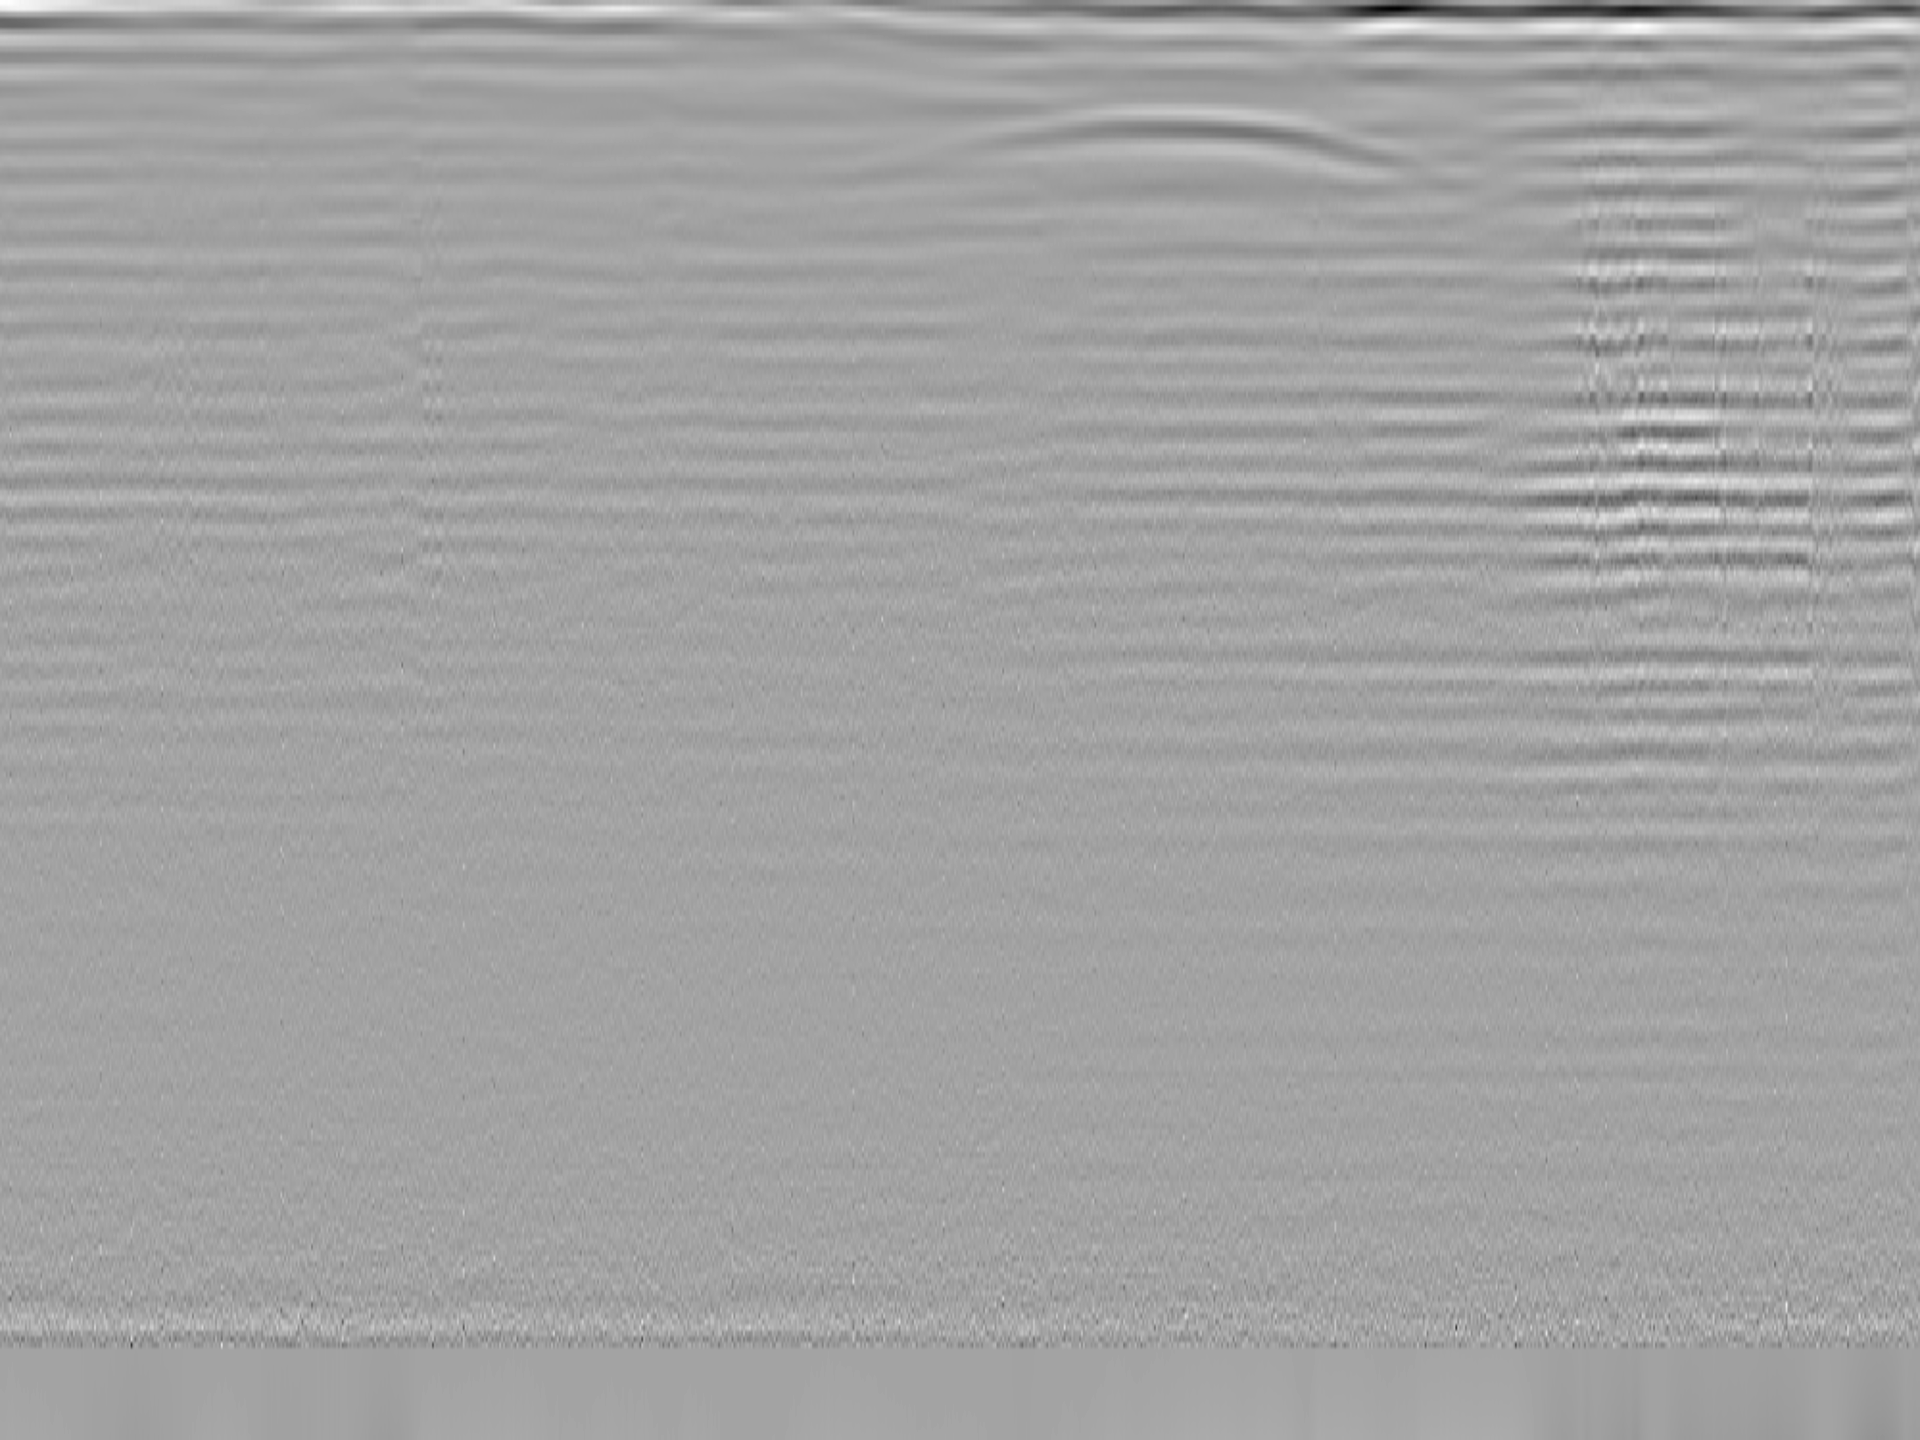Tunnel: (838, 106, 1466, 182)
